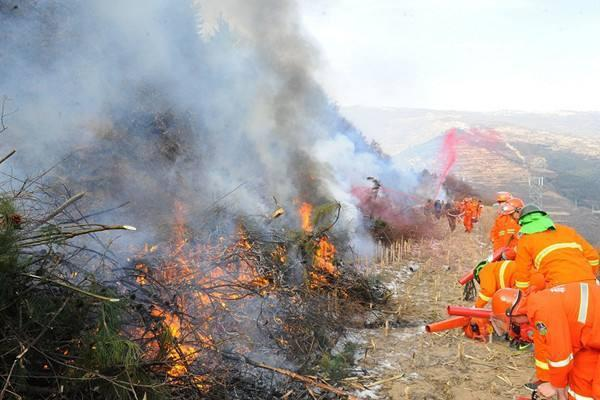fire: (134, 202, 270, 305), (145, 307, 209, 384), (308, 236, 337, 288), (296, 192, 312, 235)
